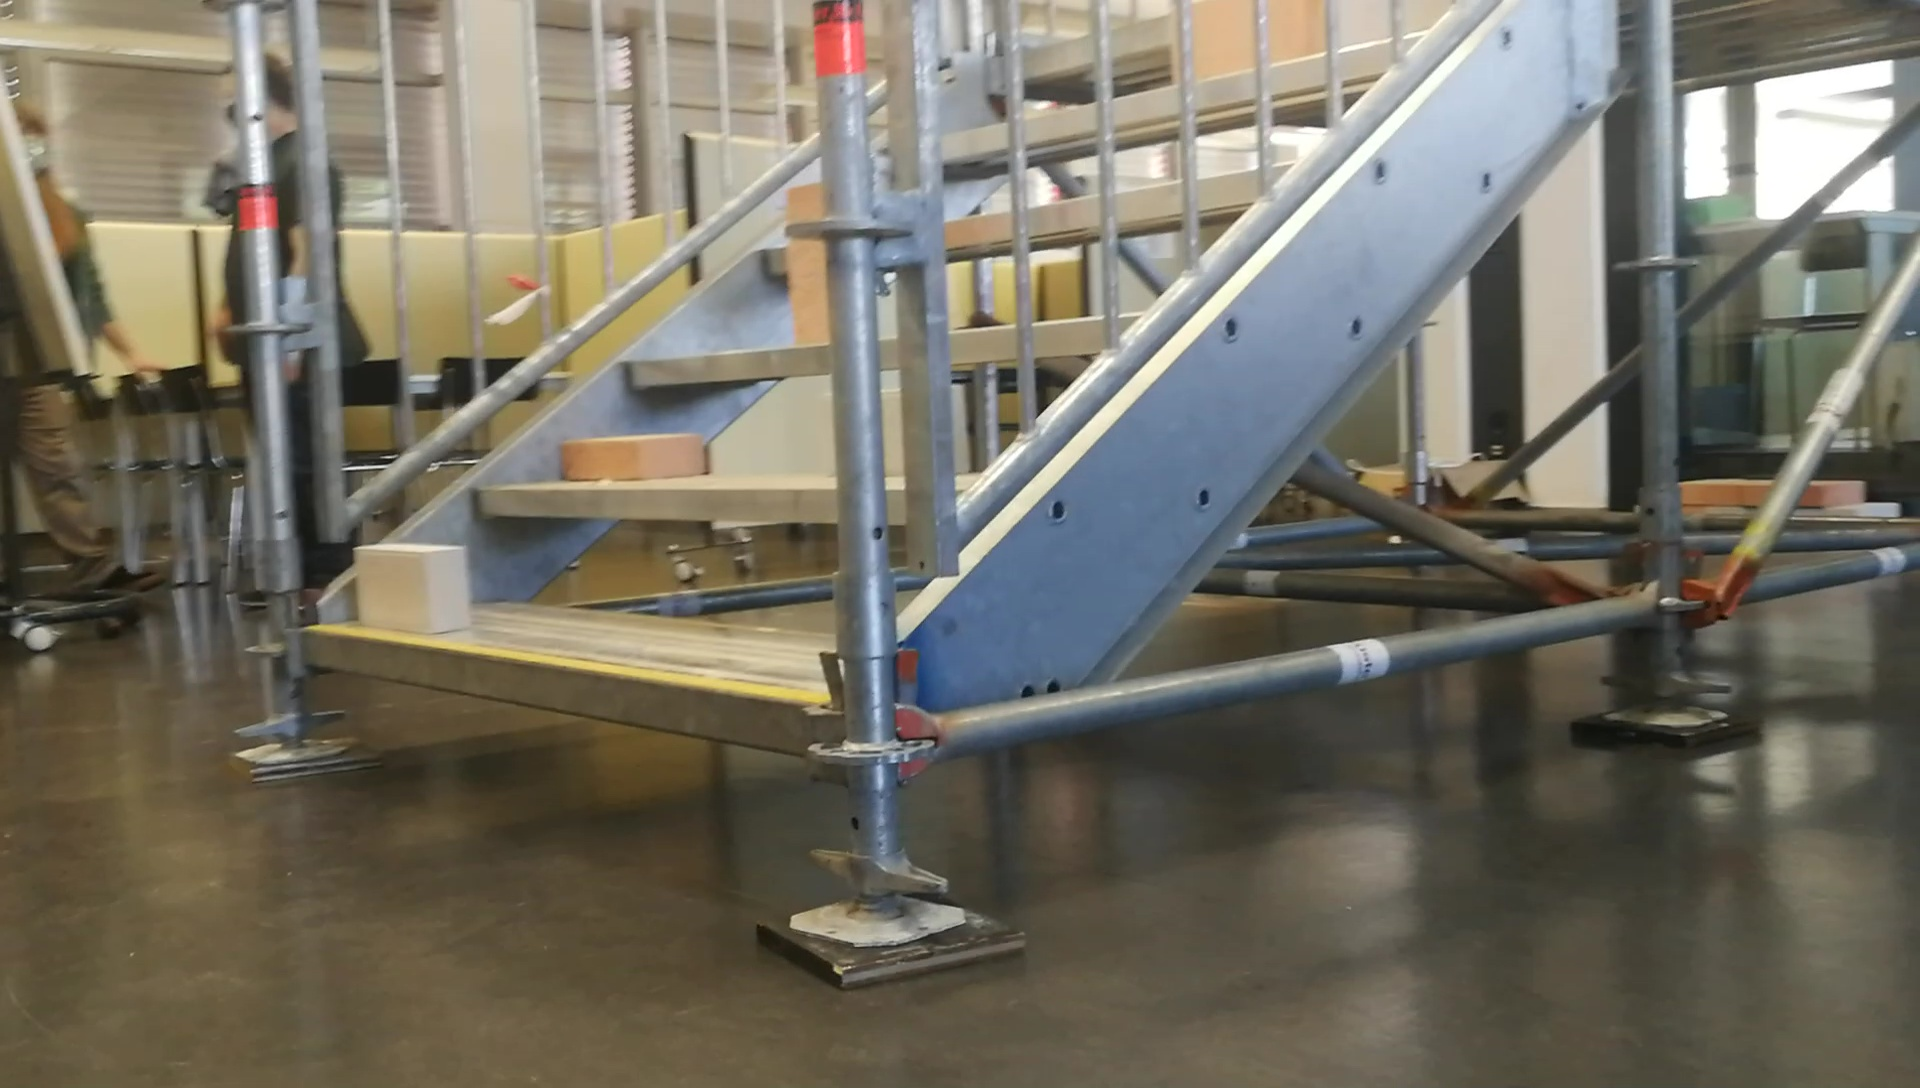brick: (357, 546, 465, 630), (789, 186, 832, 343), (564, 437, 702, 477)
edge: (305, 626, 812, 764), (473, 483, 955, 520)
stairs: (223, 5, 862, 985)
